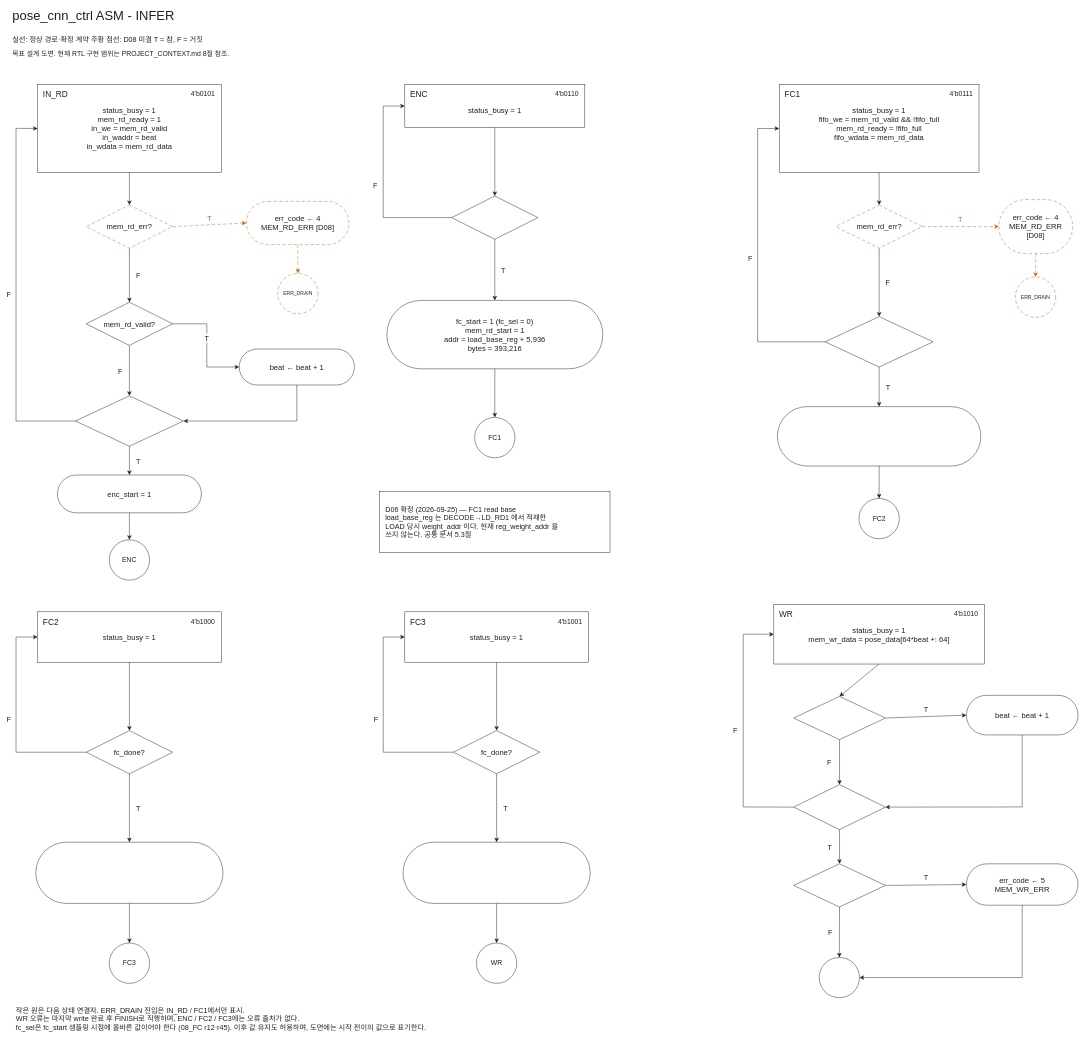
This 1091x1043 diagram has some shape labels left out. The box of each missing label's shape, as (x1, y1, x2, y2) in pixels:
enc_done?: (451, 196, 538, 239)
fc_done && !mem_rd_busy?: (825, 316, 933, 367)
fc_start = 1 (fc_sel = 1): (777, 406, 981, 466)
fc_start = 1 (fc_sel = 2): (35, 842, 223, 903)
FINISH: (819, 957, 860, 998)
mem_rd_busy 1→0?: (75, 395, 183, 446)
mem_wr_busy 1→0?: (793, 784, 885, 830)
mem_wr_err?: (793, 863, 885, 907)
mem_wr_ready?: (793, 696, 885, 740)
mem_wr_start = 1 addr = output_addr bytes = 24 beat ← 0: (403, 842, 590, 903)
